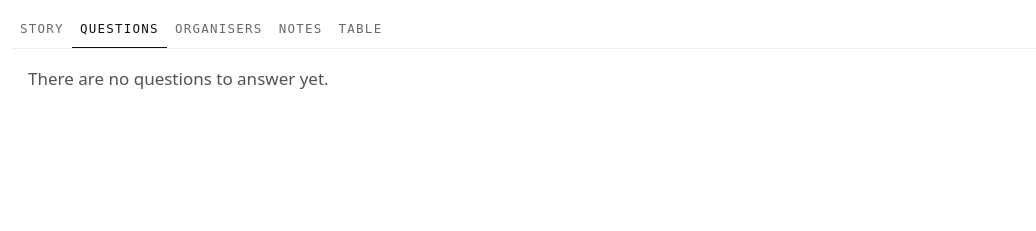
the side panel's table › is read only once its tab is chosen, and shows whose row is whose
Click the tab "Table" at (360, 30), box [330,12,390,49]
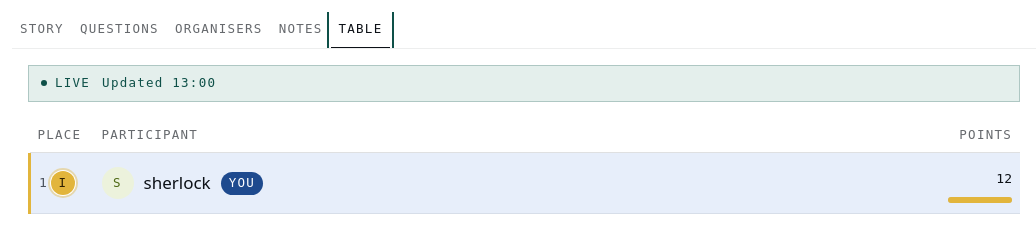
Now the text "sherlock" is shown, box [144,169,211,197]
Now the text "You" is shown, box [221,172,263,195]
Now the element with test id "place" reads "1", box [39,175,47,190]
